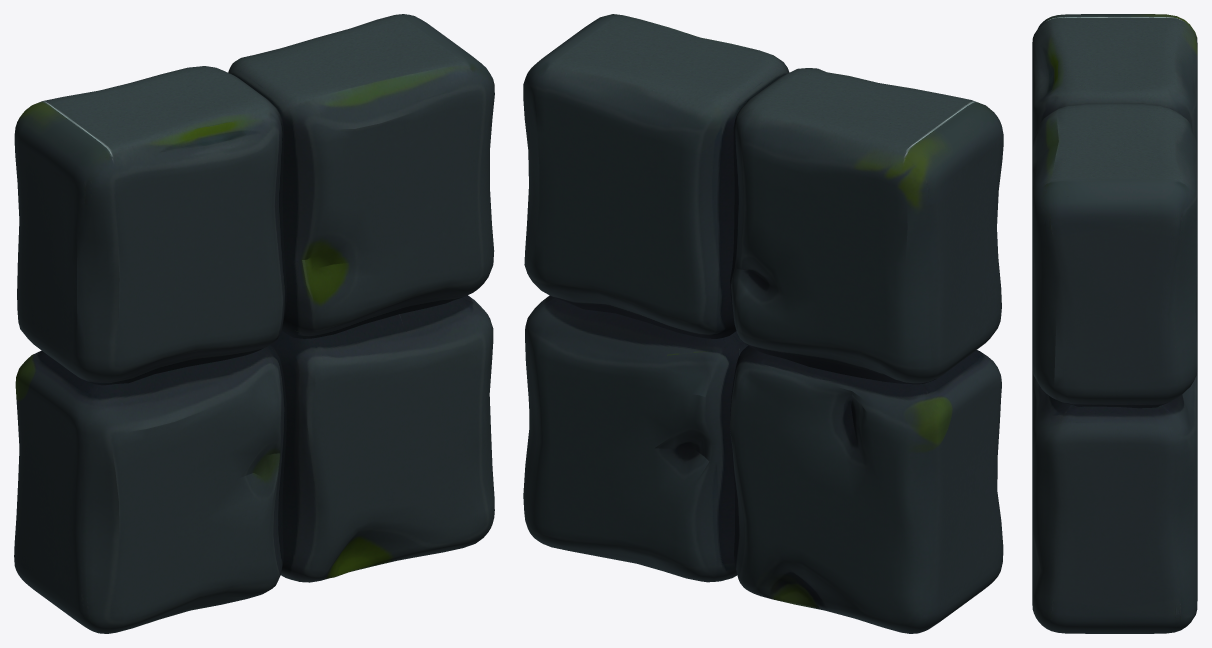
The model's file is brick_L_dungeon_old.glb.
3 views of the same model, side by side, from view 1: azimuth 30°, elevation 25°; view 2: azimuth 150°, elevation 25°; view 3: azimuth 270°, elevation 25° (orthographic). The views are drawn at different scales.
Parts seen in each view (by area): view 1: Mesh_0; view 2: Mesh_0; view 3: Mesh_0.
Boxes of the visible parts, box(x1,y1,x2,y2) form: Mesh_0: box(14, 14, 494, 633); Mesh_0: box(523, 14, 1003, 633); Mesh_0: box(1032, 14, 1197, 633).
Size of the model in its own units: 1.7 by 1.9 by 0.6296.
Materials: 1 (1 with a texture image).
